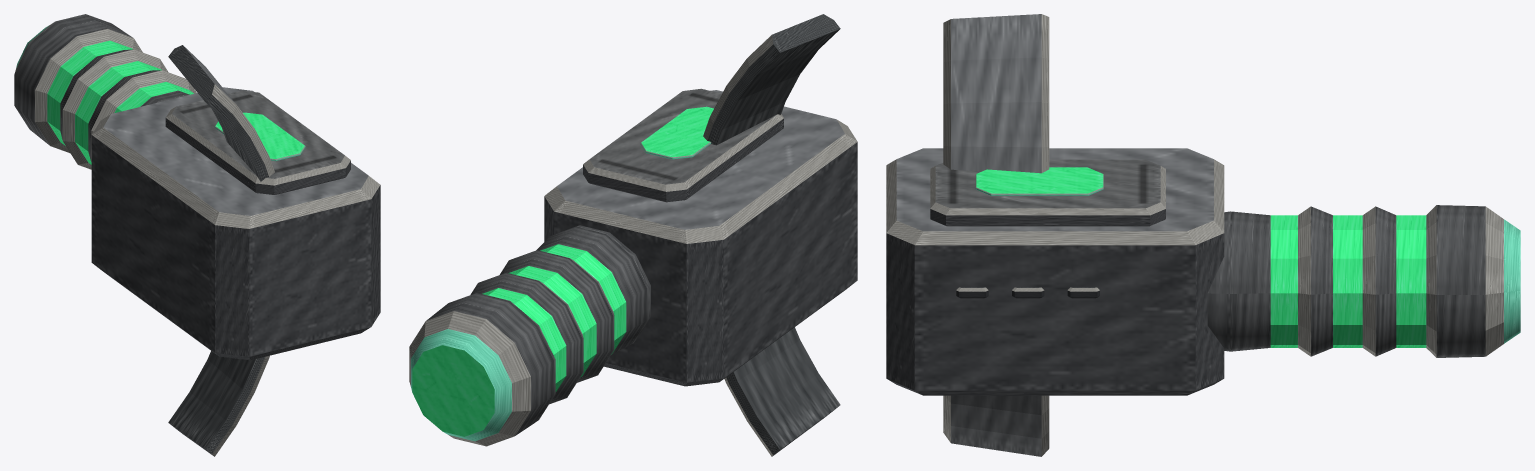
Rendered from PhotonRifle.glb.
The picture shows the model from 3 angles, left to right: view 1: azimuth 30°, elevation 25°; view 2: azimuth 150°, elevation 25°; view 3: azimuth 270°, elevation 25°; orthographic projection. The views are drawn at different scales.
Parts seen in each view (by area): view 1: PhotonRifle; view 2: PhotonRifle; view 3: PhotonRifle.
Boxes of the visible parts, x1,y1,x2,y2 form: PhotonRifle: (14, 14, 380, 456); PhotonRifle: (409, 14, 857, 456); PhotonRifle: (886, 14, 1520, 456).
Size of the model in its own units: 0.171 by 0.3775 by 0.49.
1 material, 1 textured.
